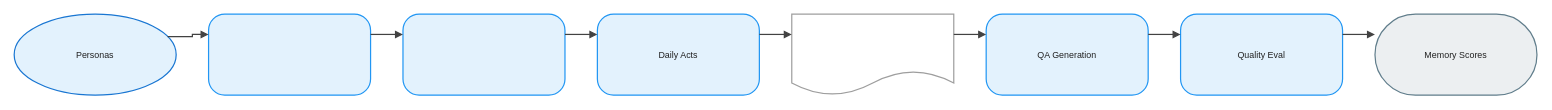
Image size: 1552x110. Some labels were removed from this diagram. Here are the shapes that lost their labels. From the top down, the centre of each, then its label:
At point 289,54: "Urban Priors".
At point 483,54: "Event Tree".
At point 872,54: "Phone Traces".
